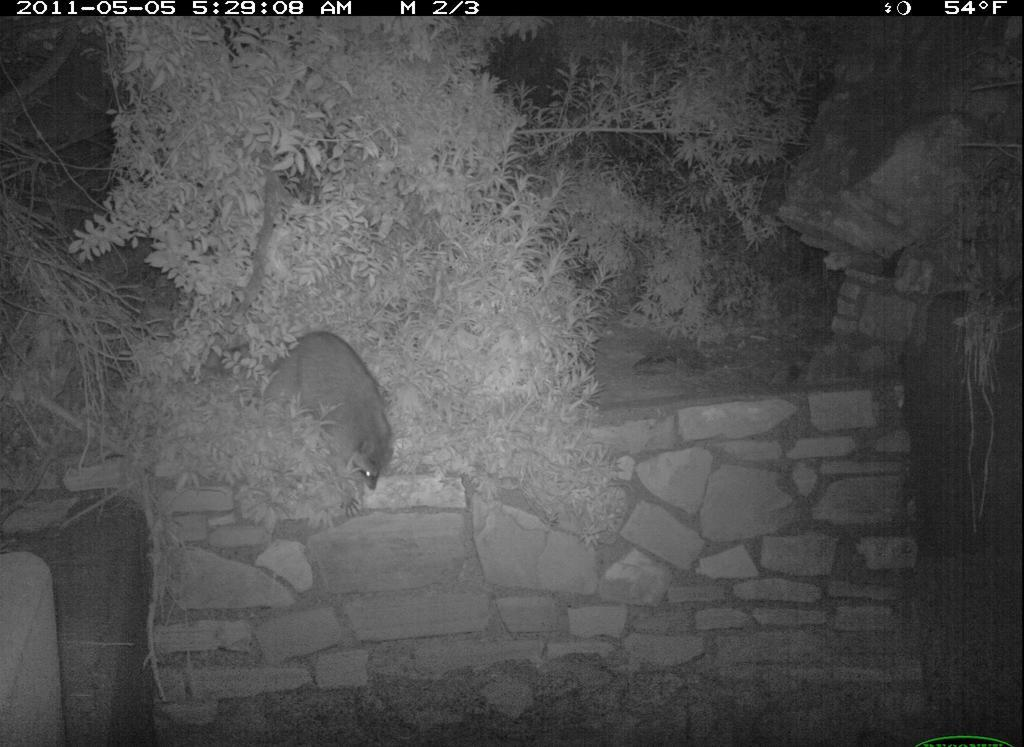raccoon: (259, 324, 406, 497)
